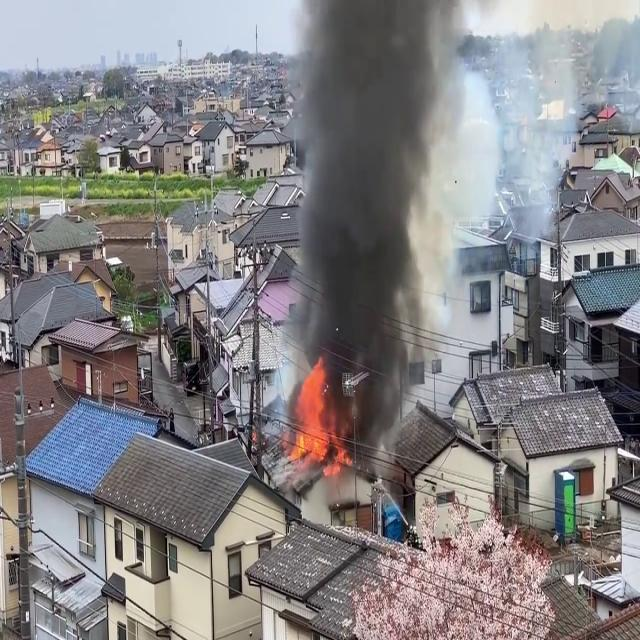Fire: (286, 361, 348, 472)
Smoke: (282, 0, 470, 438)
